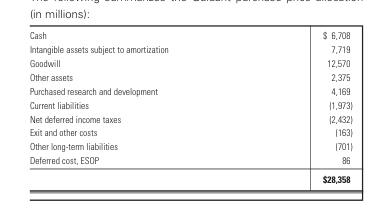table: (28, 29, 351, 184)
table column: (28, 29, 244, 184), (244, 29, 351, 184)
table row: (28, 152, 351, 169), (28, 169, 351, 184), (28, 41, 351, 55), (28, 55, 351, 69), (28, 69, 351, 83), (28, 83, 351, 97), (28, 97, 351, 111), (28, 111, 351, 125), (28, 125, 351, 139), (28, 139, 351, 152), (28, 29, 351, 41)
